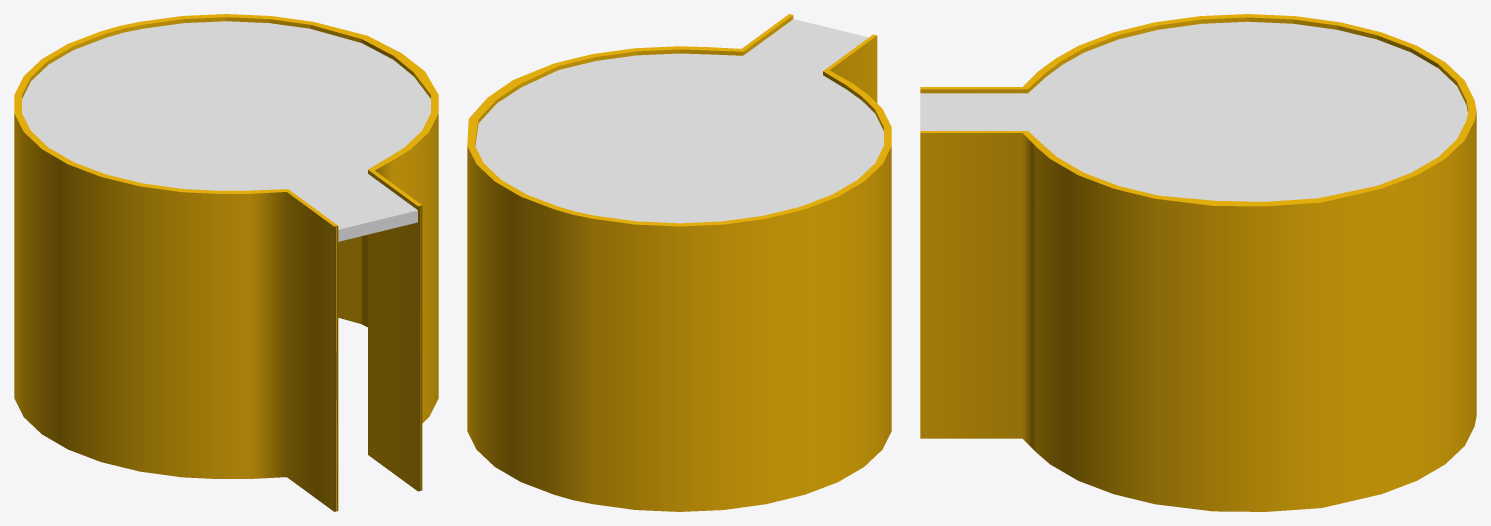
The model's file is Abstract_Path_Round (1).fbx.
3 views of the same model, side by side, from view 1: azimuth 30°, elevation 25°; view 2: azimuth 150°, elevation 25°; view 3: azimuth 270°, elevation 25° (orthographic). The views are drawn at different scales.
Visible parts, largest first — view 1: Abstract_Path_Round; view 2: Abstract_Path_Round; view 3: Abstract_Path_Round.
Part boxes in pixels (left/top/right/bottom): Abstract_Path_Round: left=14, top=14, right=438, bottom=511; Abstract_Path_Round: left=467, top=14, right=891, bottom=511; Abstract_Path_Round: left=920, top=14, right=1476, bottom=511.
Size of the model in its own units: 597 by 442 by 730.
2 materials, 2 textured.
